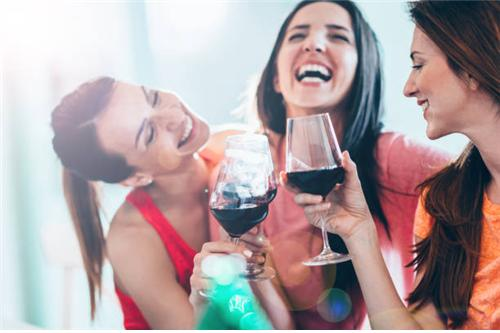alcohol: (285, 114, 352, 267), (208, 150, 269, 245), (224, 134, 278, 239)
